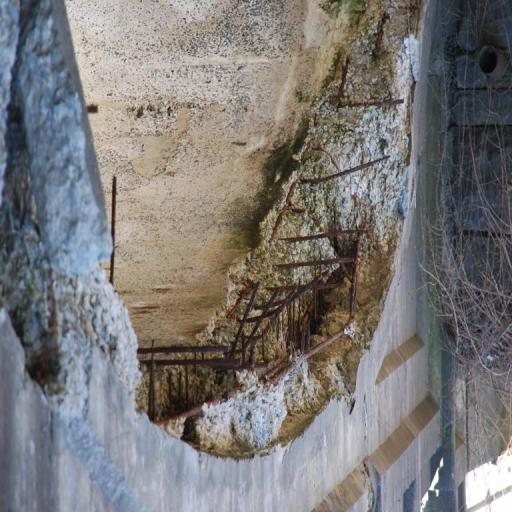spalling: (155, 3, 429, 458)
